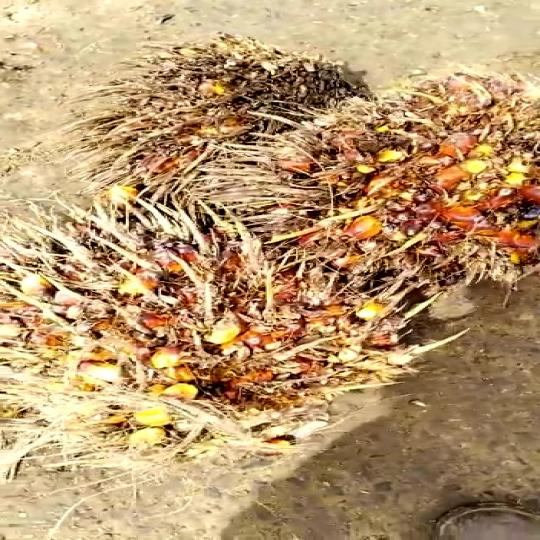terlalu masak: (0, 188, 431, 465), (211, 71, 540, 282), (66, 37, 385, 161)
